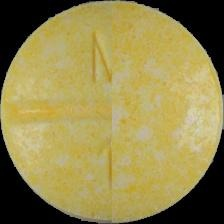42254-110: (0, 0, 224, 224)
